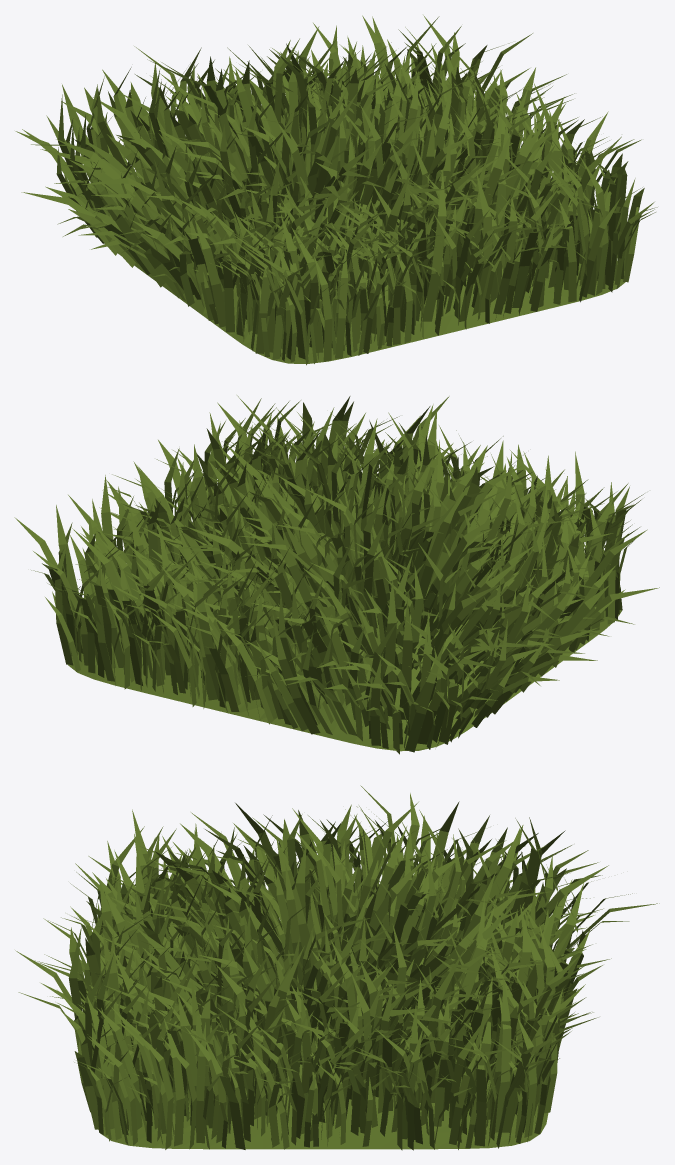
The picture shows the model from 3 angles, top to bottom: view 1: azimuth 30°, elevation 25°; view 2: azimuth 150°, elevation 25°; view 3: azimuth 270°, elevation 25°; orthographic projection. The views are drawn at different scales.
Parts seen in each view (by area): view 1: 3D学院 模型无限; view 2: 3D学院 模型无限; view 3: 3D学院 模型无限.
Boxes of the visible parts, x1,y1,x2,y2 form: 3D学院 模型无限: (15, 15, 657, 365); 3D学院 模型无限: (14, 395, 659, 754); 3D学院 模型无限: (15, 785, 659, 1150).
Bounding box in the file's own units: 1.42 × 0.5006 × 1.42.
